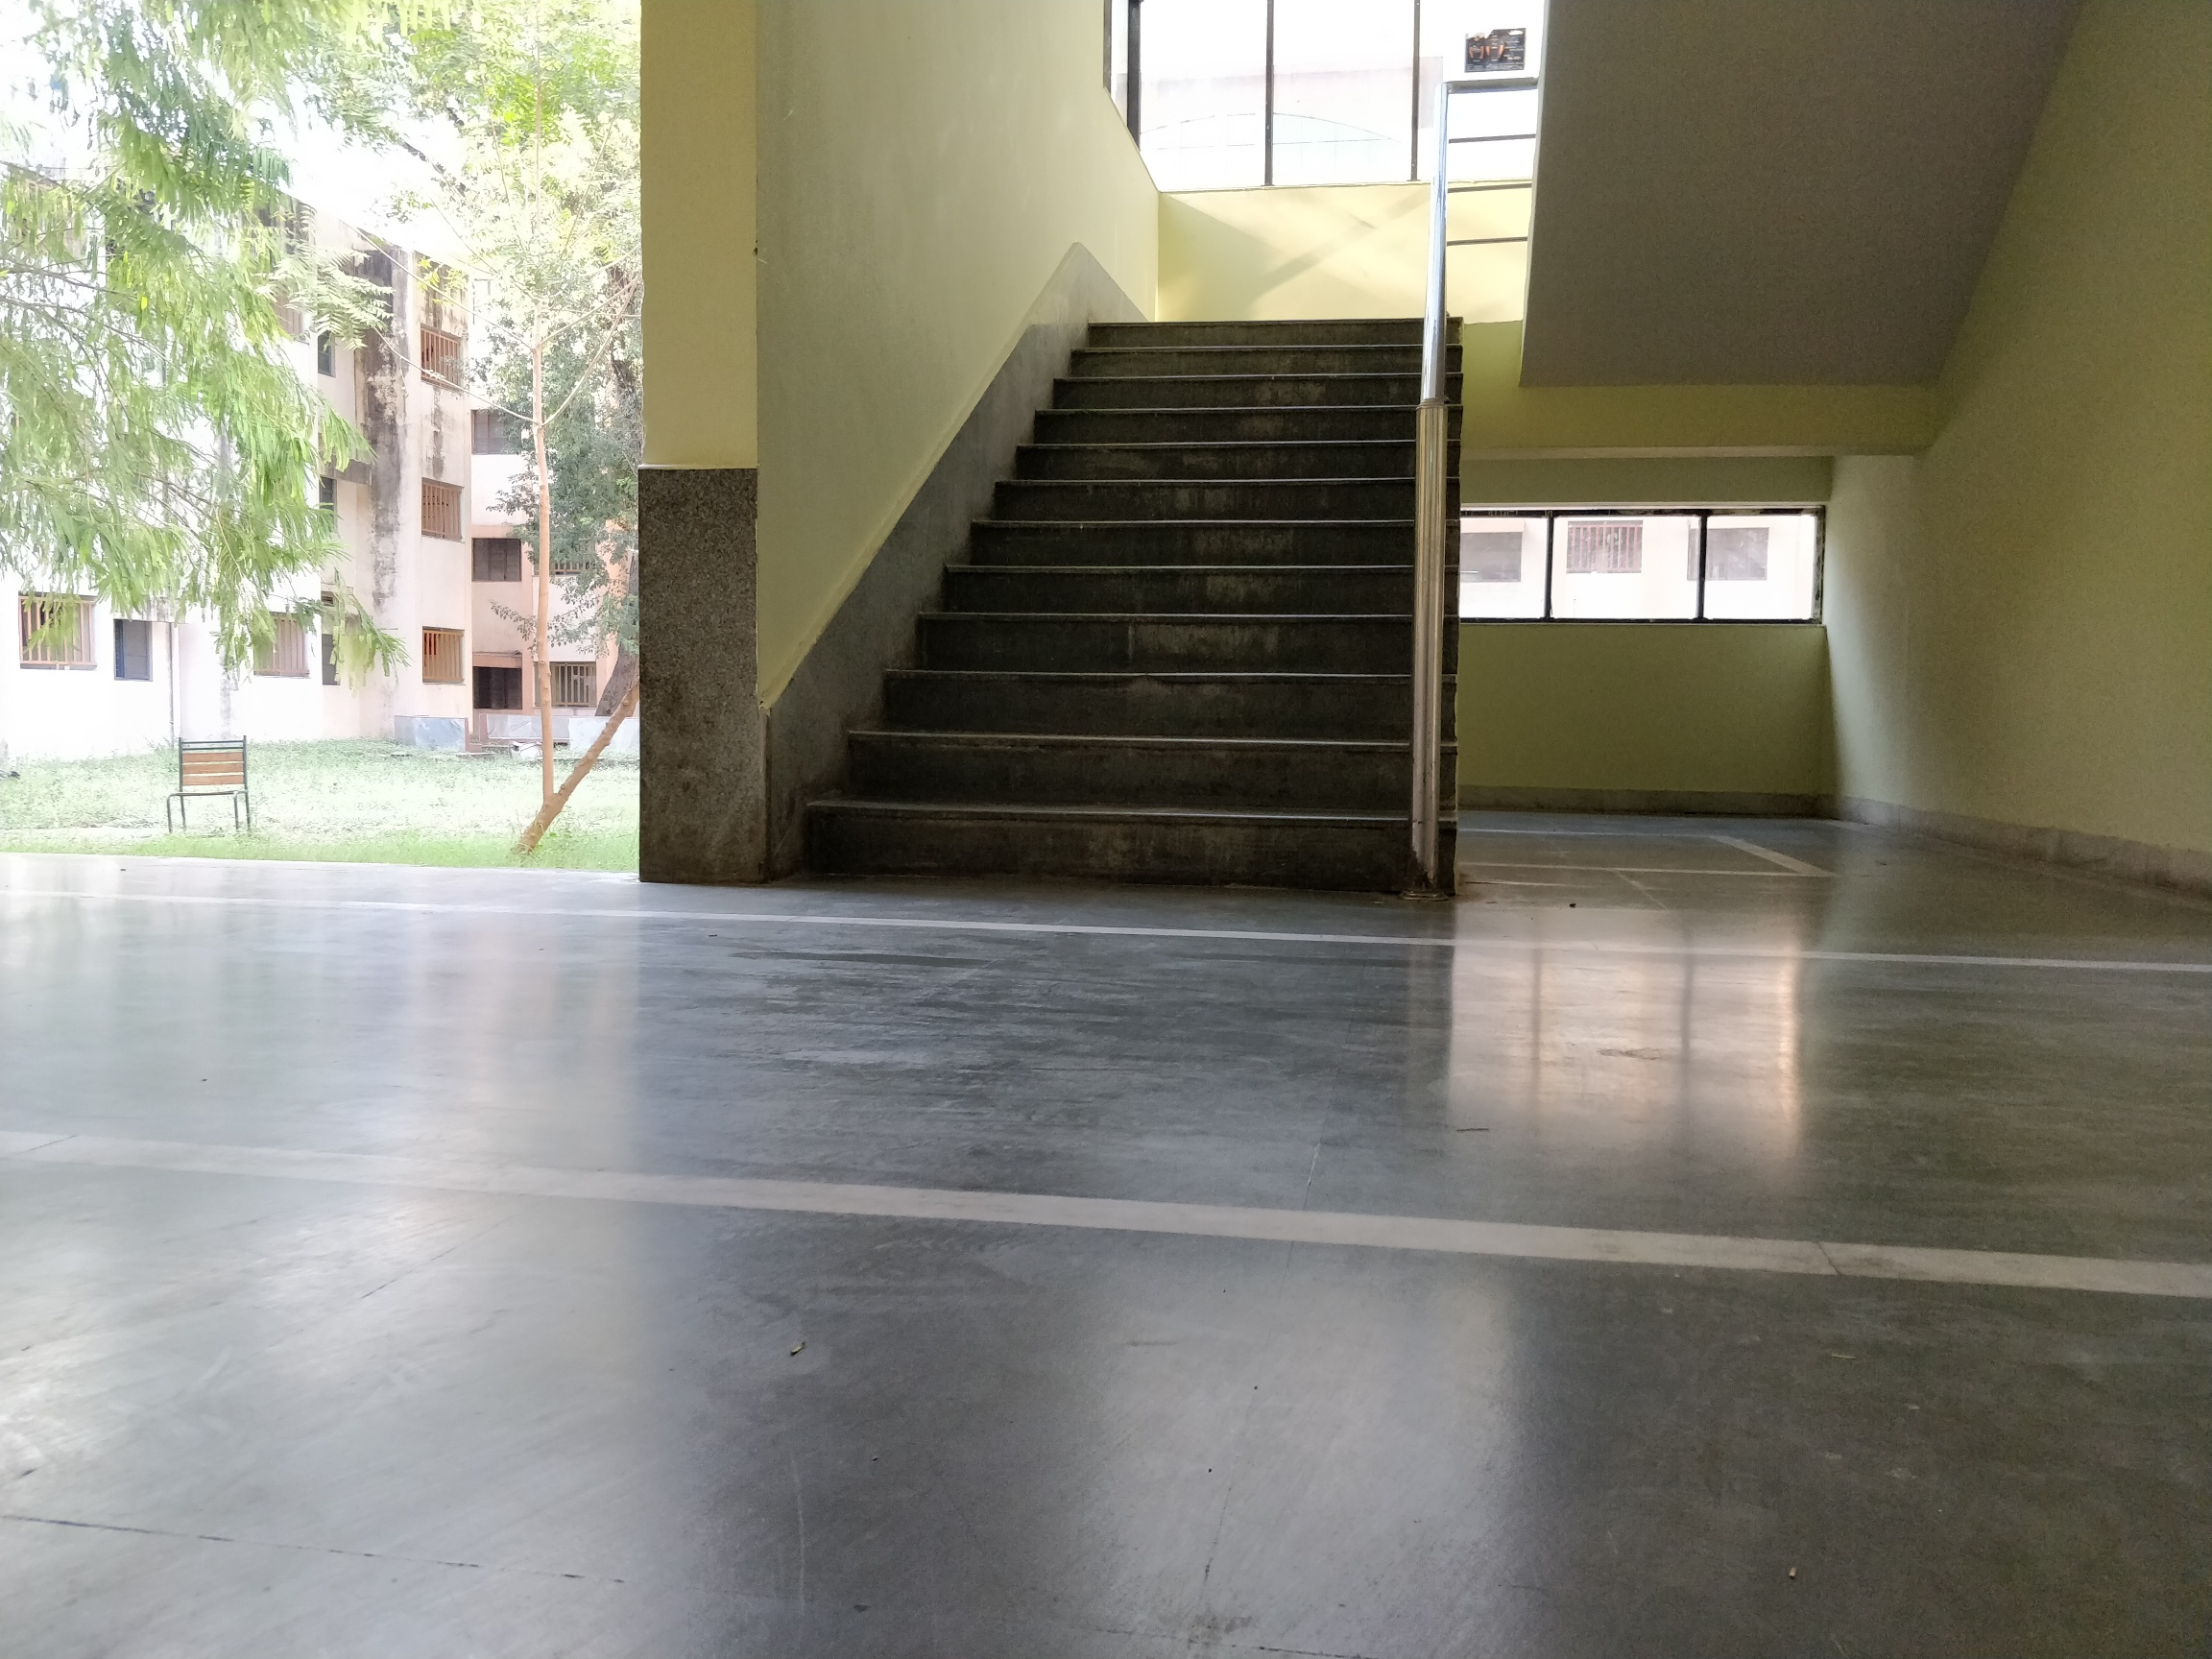stairs_up: (794, 314, 1451, 861)
